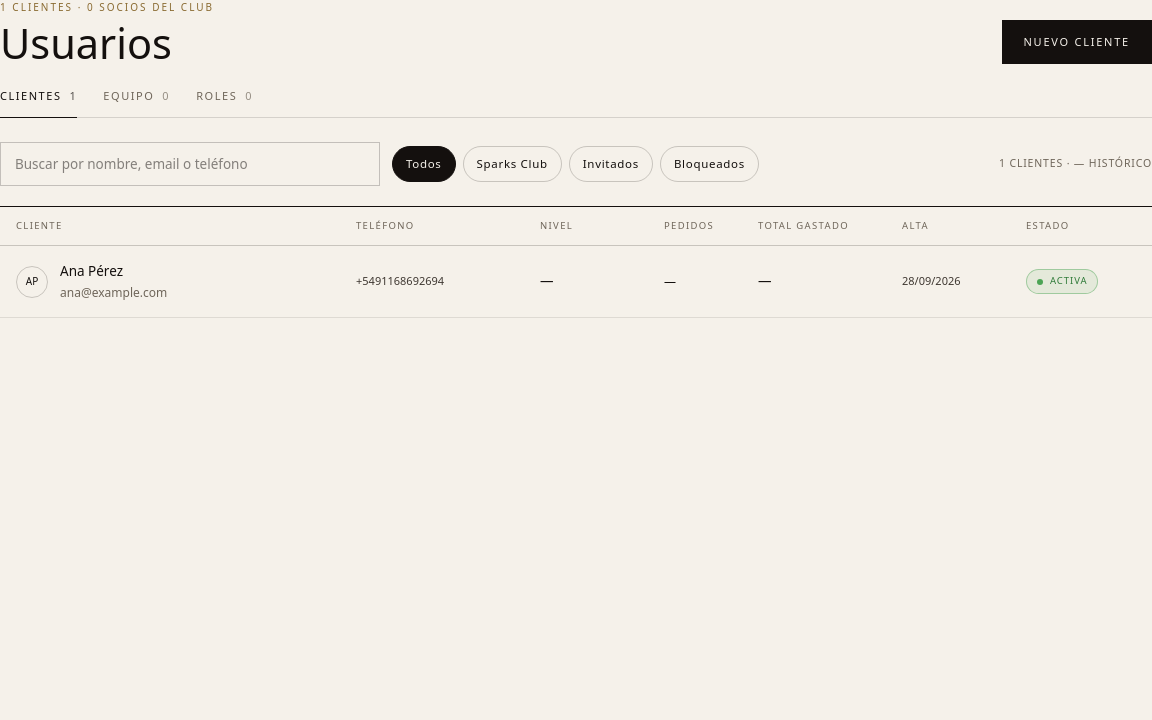
Test case: users screen › blocks only when the drawer is saved
This screenshot has width=1152, height=720.
Click the button "Ana Pérez" at (32, 282), box [0,246,1151,318]
(page scrolled)
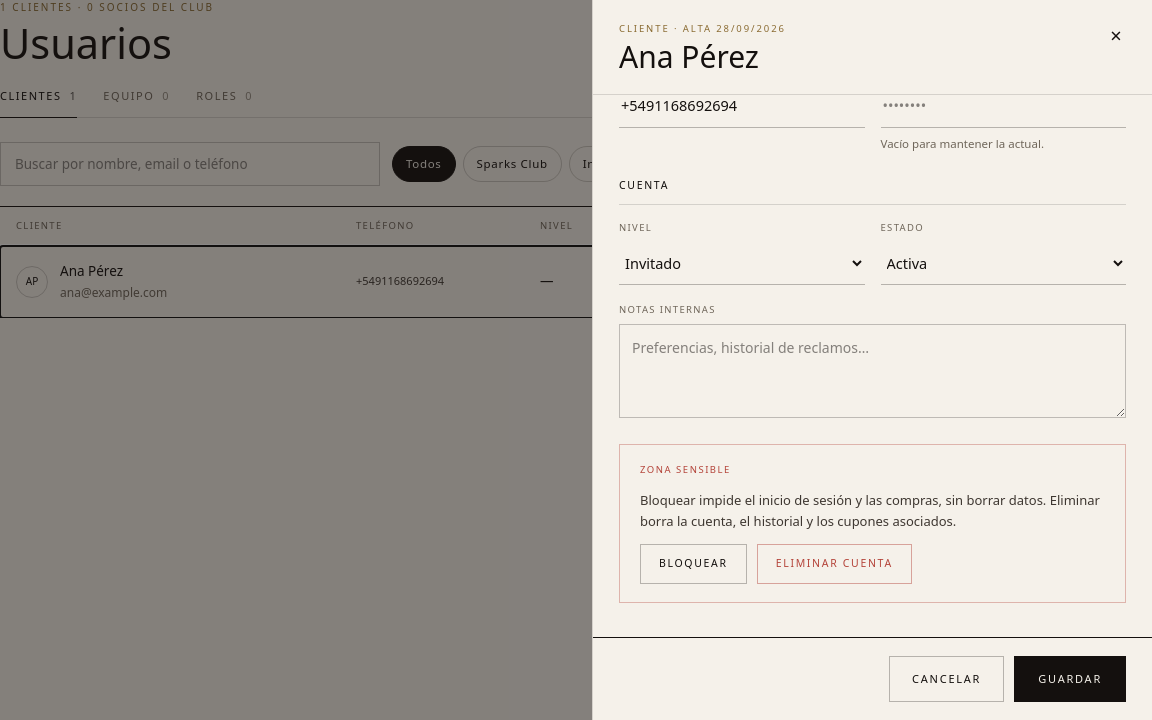
Click the button "Bloquear" at (693, 564), box [640,544,747,584]
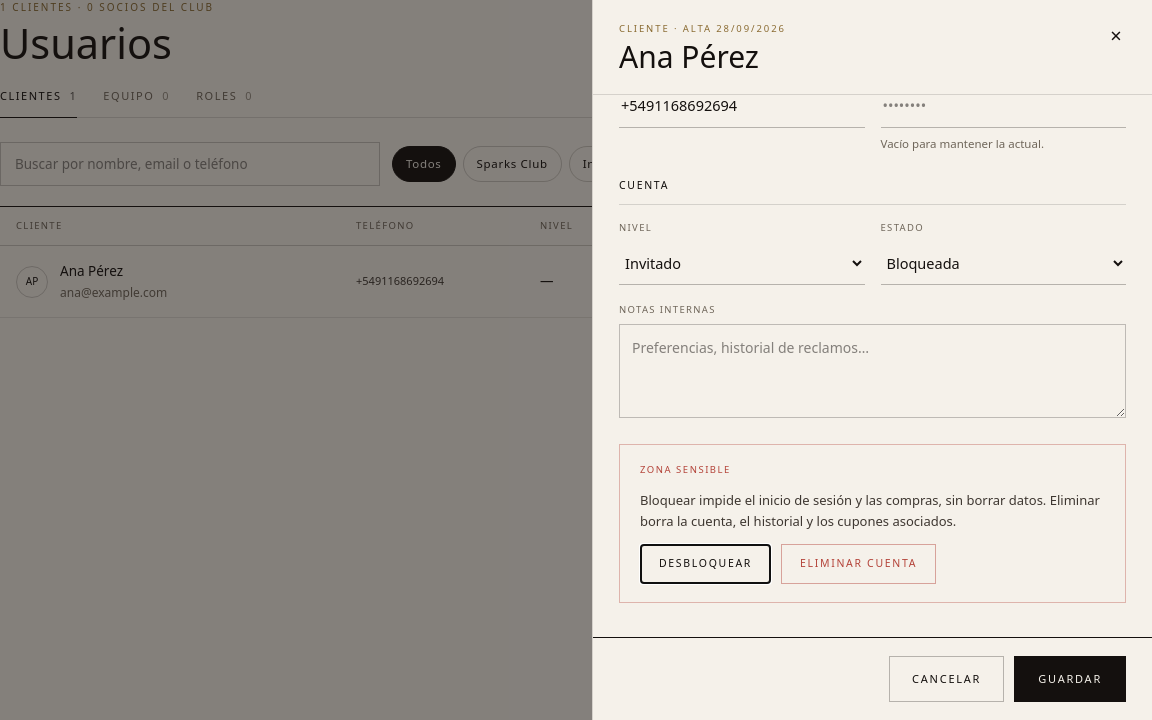
Check: the dropdown labelled "Estado" shows "Bloqueada", box [880,242,1126,285]
Click the button "Guardar" at (1070, 679), box [1014,656,1126,702]
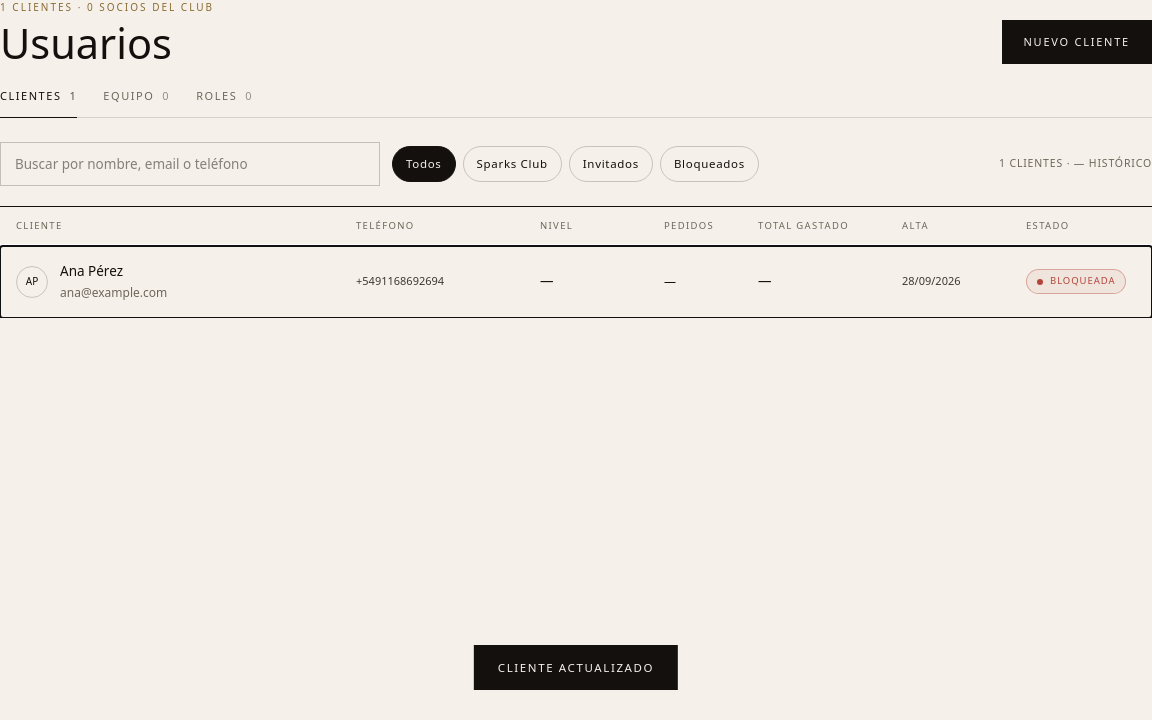
Check: the message "Cliente actualizado" is shown, box [474,645,678,690]
